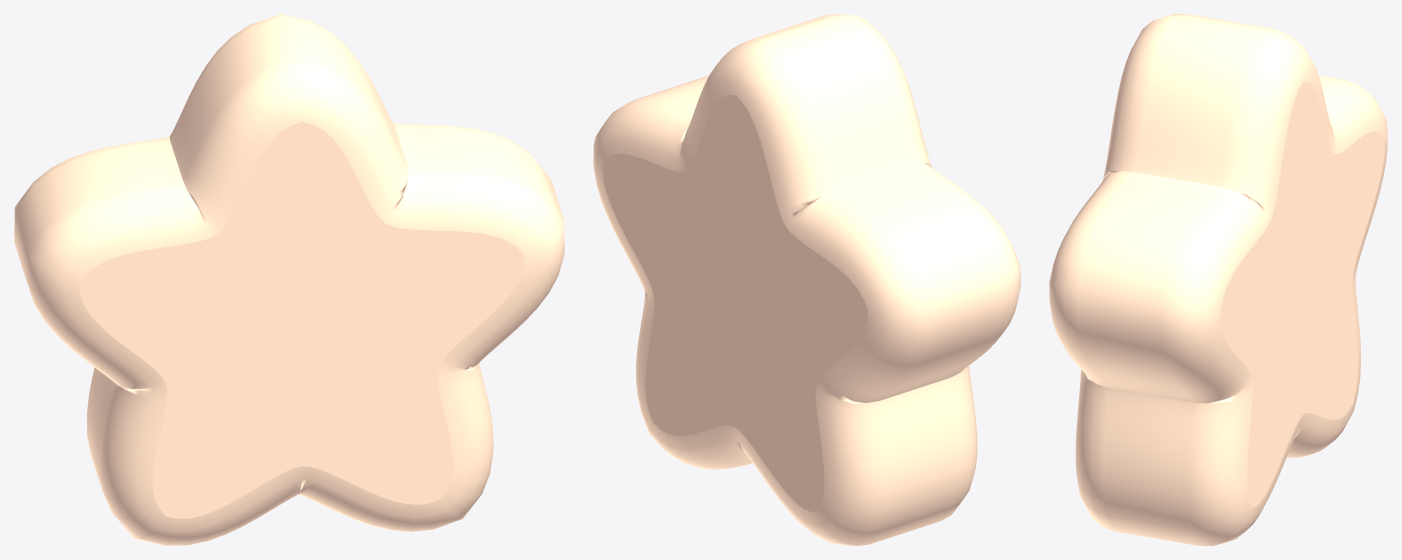
The model's file is rainbowstar.glb.
3 renders of one model, left to right at view 1: azimuth 30°, elevation 25°; view 2: azimuth 150°, elevation 25°; view 3: azimuth 270°, elevation 25°, orthographic. The views are drawn at different scales.
Visible parts, largest first — view 1: Circle; view 2: Circle; view 3: Circle.
Boxes of the visible parts, box(x1,y1,x2,y2) form: Circle: box(14, 14, 564, 545); Circle: box(593, 14, 1020, 545); Circle: box(1049, 14, 1387, 545).
Size of the model in its own units: 0.1282 by 0.1242 by 0.0826.
